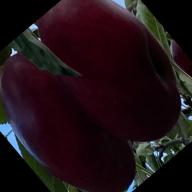Apples: (18, 0, 192, 167), (0, 33, 152, 192), (162, 38, 192, 92)
